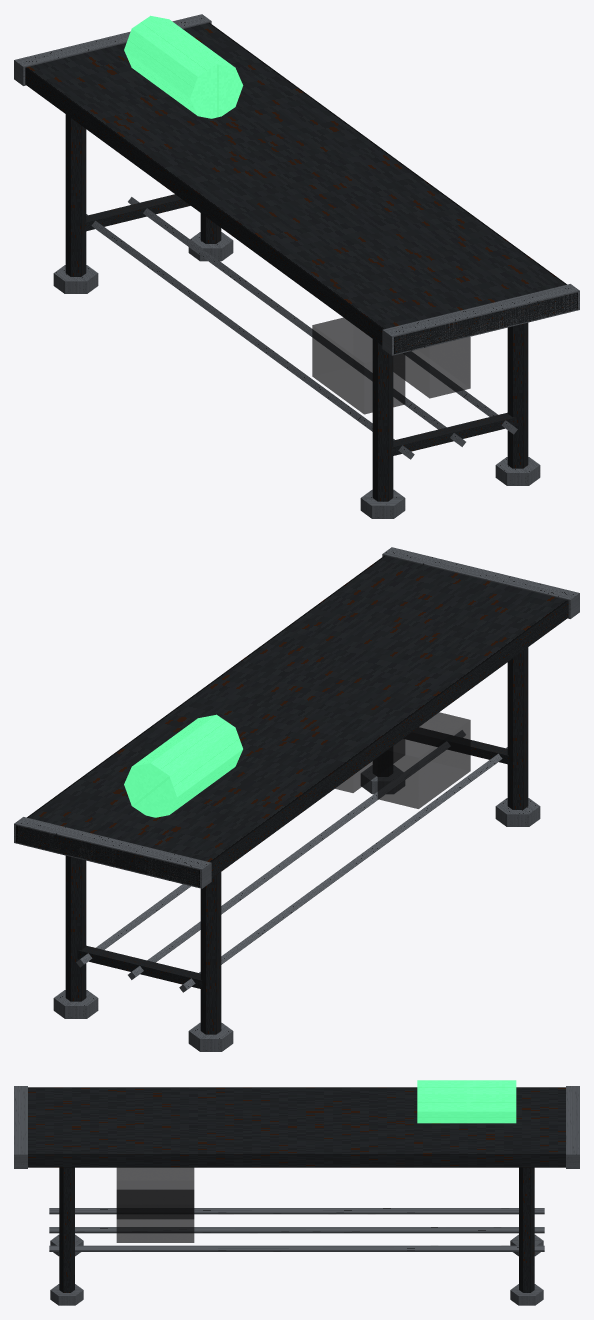
File: locker_bench_industrial_hazard.glb
3 views of the same model, one above another, from view 1: azimuth 30°, elevation 25°; view 2: azimuth 150°, elevation 25°; view 3: azimuth 270°, elevation 25° (orthographic). The views are drawn at different scales.
Visible parts, largest first — view 1: locker_bench_industrial_hazard; view 2: locker_bench_industrial_hazard; view 3: locker_bench_industrial_hazard.
Part boxes in pixels (<box>): locker_bench_industrial_hazard: <box>14,14,579,518</box>; locker_bench_industrial_hazard: <box>14,547,579,1051</box>; locker_bench_industrial_hazard: <box>14,1080,579,1305</box>.
Bounding box in the file's own units: 0.46 × 0.605 × 1.6.
5 materials, 5 textured.
